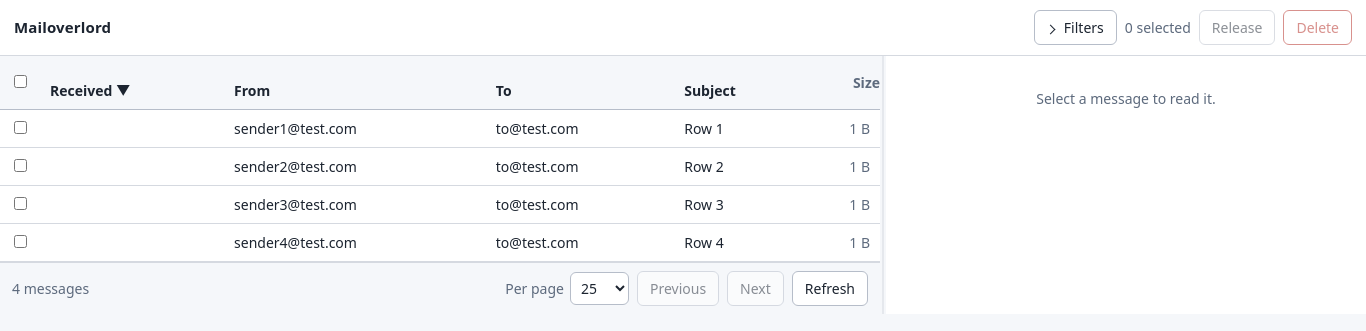
message detail loading › does not reopen a message the user closed while it was loading
Click the row with id "message-row-1": (440, 128) [0, 110, 880, 148]
Wait 200 ms
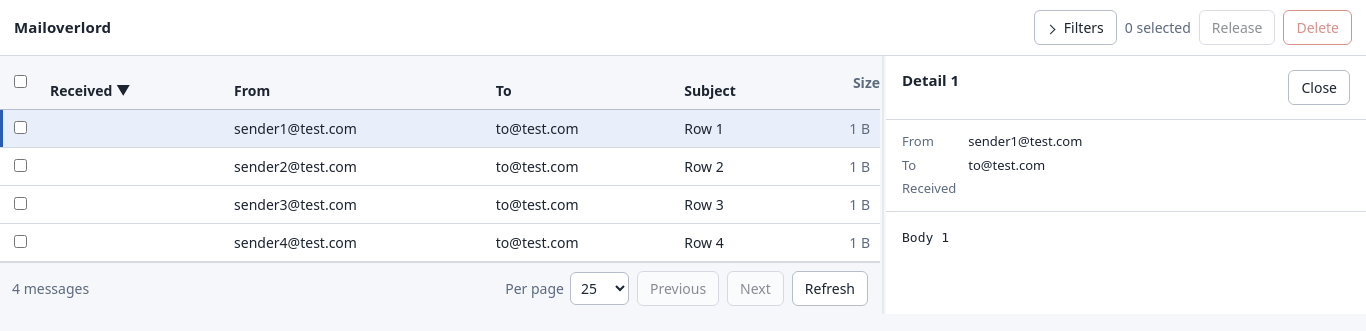
Now the text "Detail 1" is shown, box [902, 70, 959, 90]
Press j in the row with id "message-row-1", box [0, 110, 880, 148]
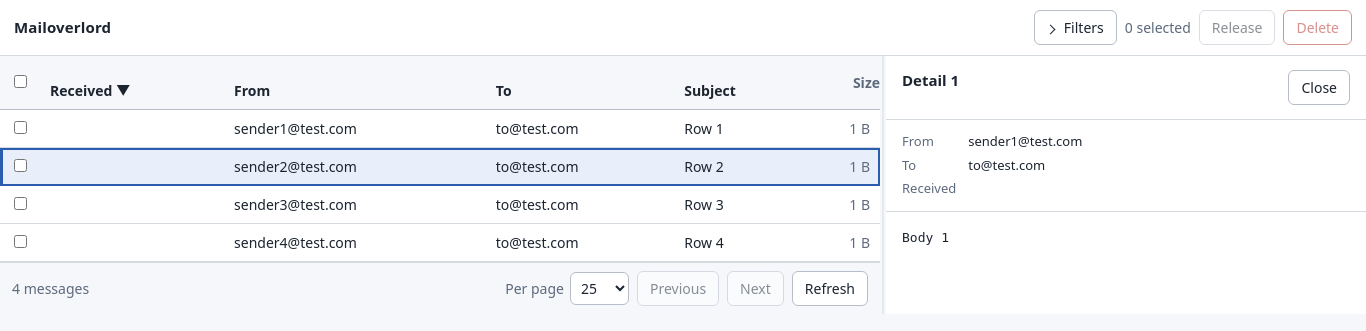
Click the button with aria-label "Close the message": (1319, 88) [1288, 70, 1350, 105]
Wait 200 ms
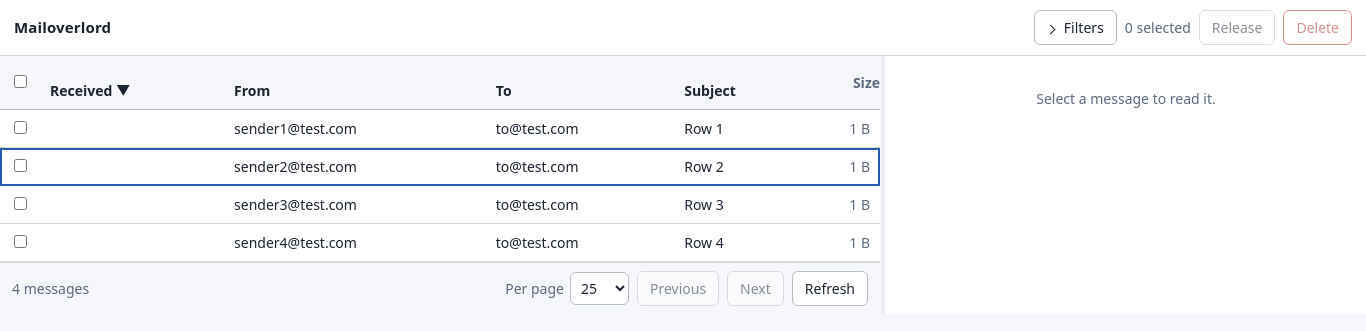
Now the text "Select a message to read it." is shown, box [1036, 89, 1216, 108]
